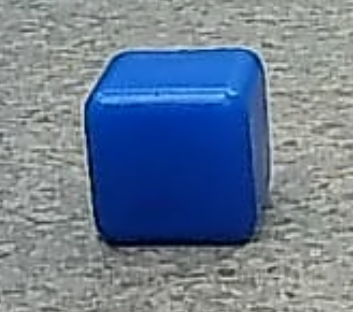blue_cube: (80, 45, 281, 249)
